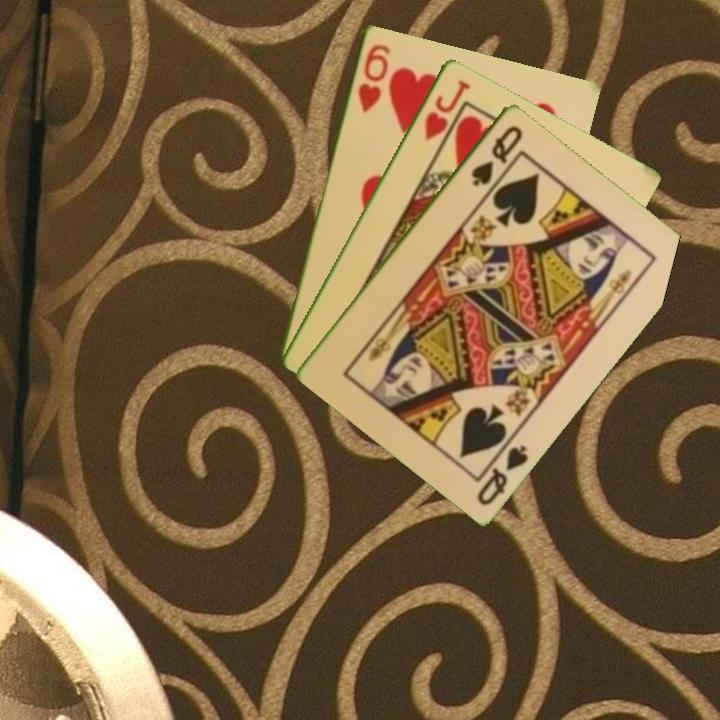6h: (354, 40, 393, 115)
Jh: (421, 76, 473, 143)
Qs: (467, 121, 526, 189), (473, 440, 531, 508)
